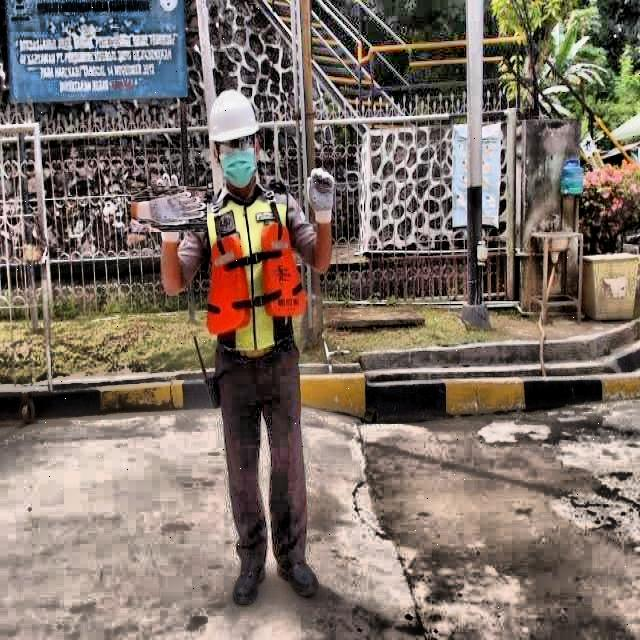gloved: (138, 178, 200, 240), (299, 160, 344, 231)
